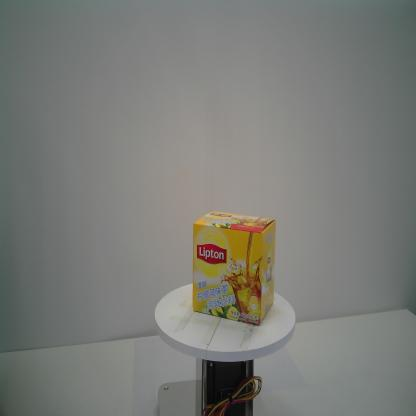Instant Drink: (192, 210, 276, 328)
